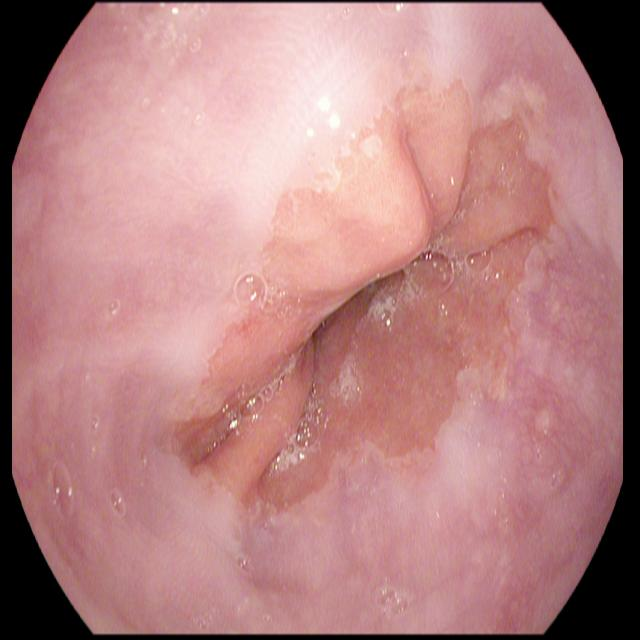Normal-Z-Line: (135, 64, 576, 517)
